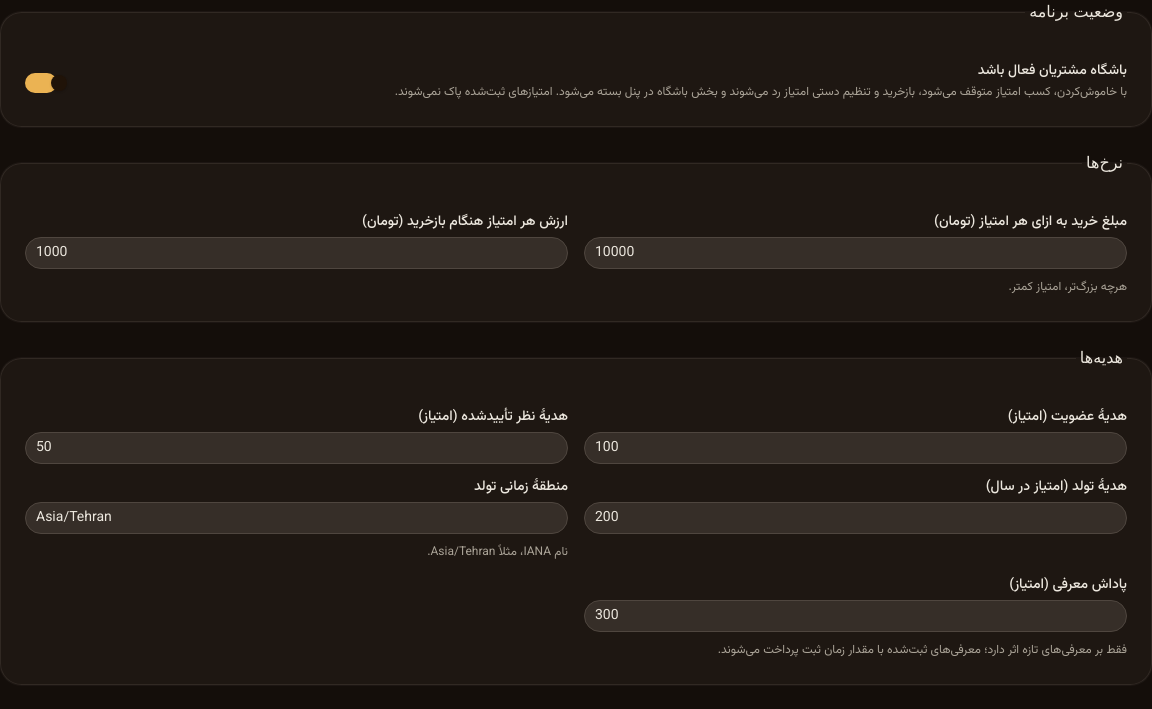
Scenario: LoyaltyProgrammeForm › refuses a zero earn divisor
This screenshot has width=1152, height=709.
Replace the text in the field labelled "مبلغ خرید به ازای هر امتیاز (تومان)" with "0": (856, 253) x1=584 y1=237 x2=1127 y2=269
(page scrolled)
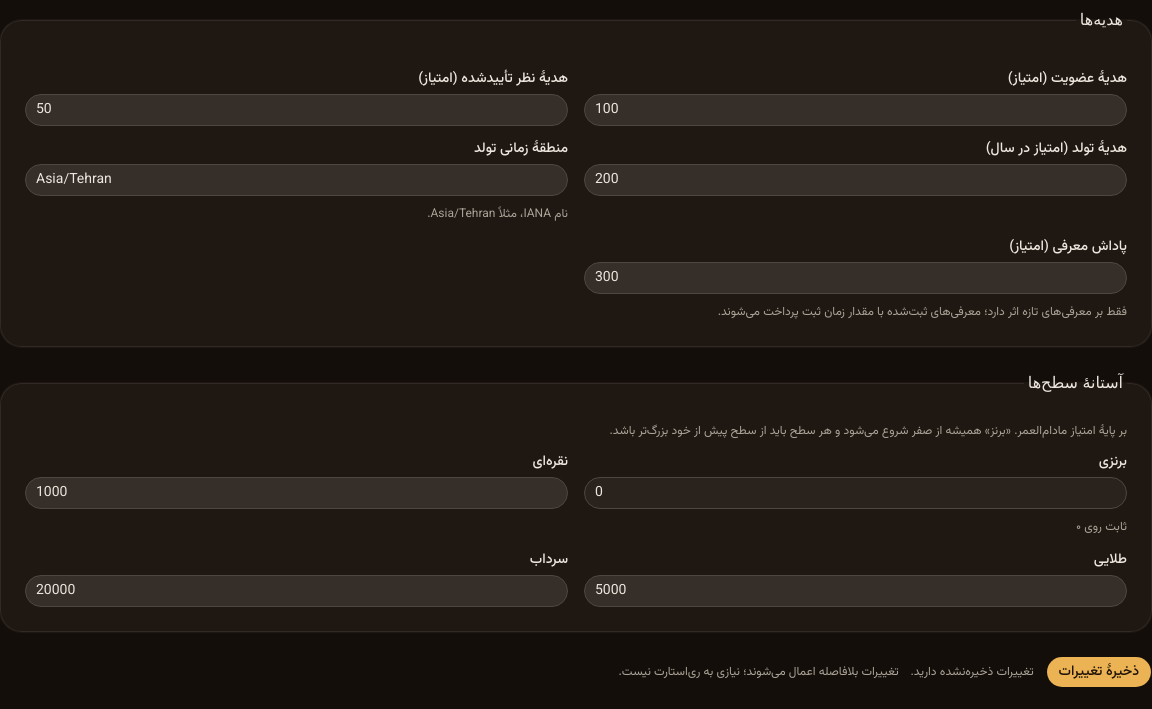
Click the button "ذخیرهٔ تغییرات": click(1099, 672) x1=1046 y1=656 x2=1151 y2=688
(page scrolled)
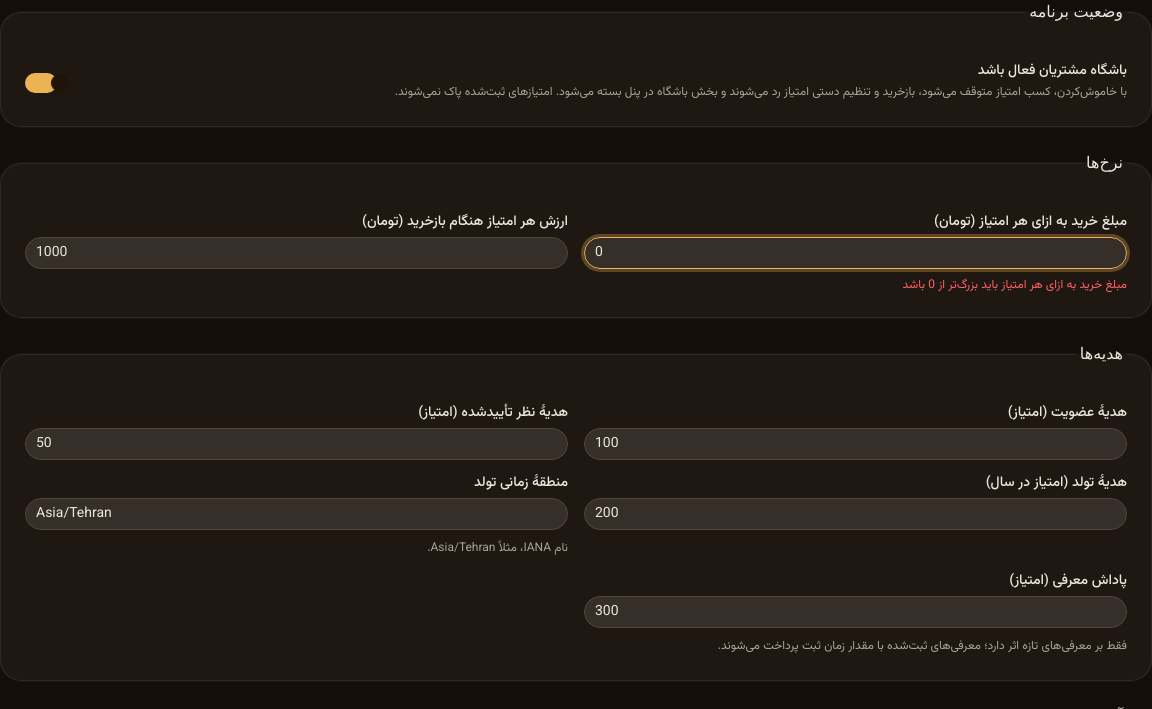
Now the message "مبلغ خرید به ازای هر امتیاز باید بزرگ‌تر از 0 باشد" is shown, box x1=902 y1=276 x2=1127 y2=294
